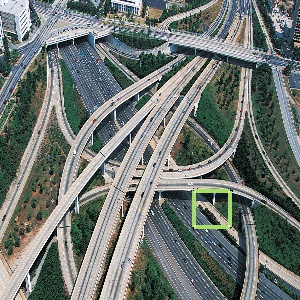square: (185, 186, 238, 231)
